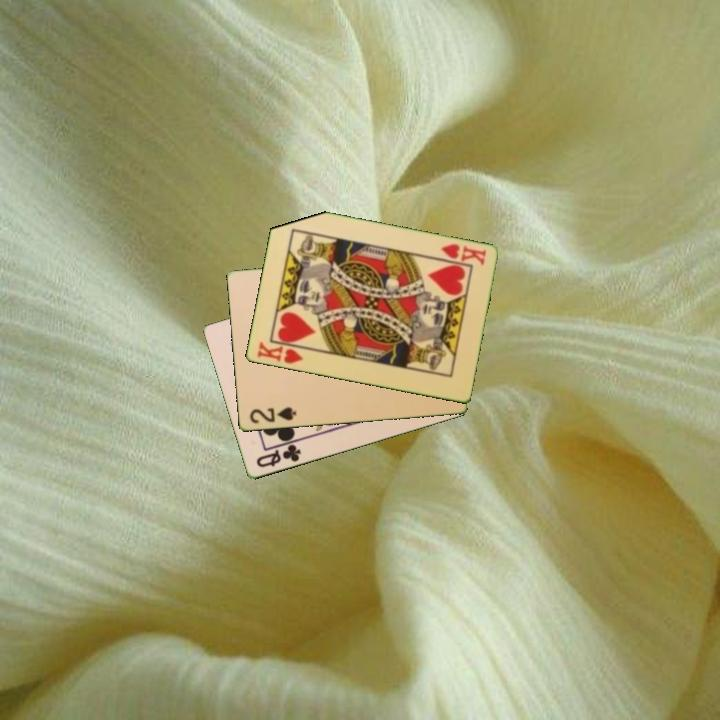2s: (246, 404, 299, 427)
Kh: (253, 338, 310, 367), (437, 240, 489, 268)
Qc: (252, 441, 304, 471)
